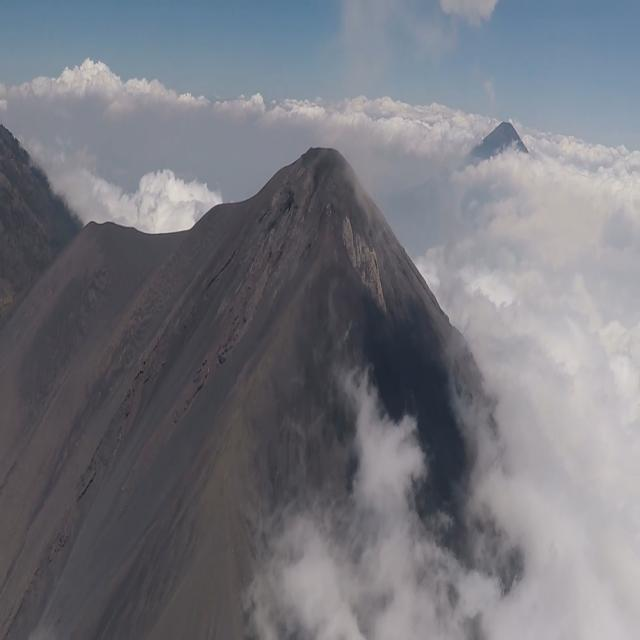Summit: (191, 134, 446, 316)
